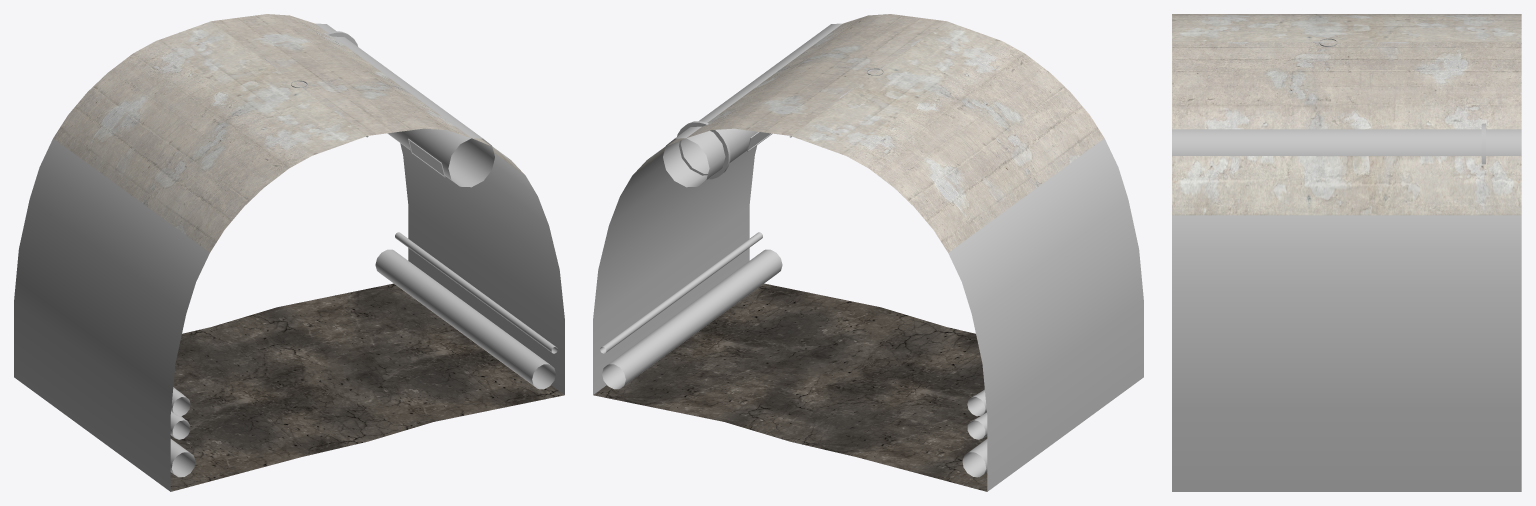
File: Corridor_wall_1x.FBX
The picture shows the model from 3 angles, left to right: view 1: azimuth 30°, elevation 25°; view 2: azimuth 150°, elevation 25°; view 3: azimuth 270°, elevation 25°; orthographic projection. The views are drawn at different scales.
Parts seen in each view (by area): view 1: Corridor_wall_1x, Corridor_floor_1x, Tube003, Tube_big_vent002, Tube_paint003, Tube_warm003, Tube006; view 2: Corridor_wall_1x, Corridor_floor_1x, Tube003, Tube_big_vent002, Tube_paint003, Tube_warm003, Tube006; view 3: Corridor_wall_1x, Tube_big_vent002.
Boxes of the visible parts, x1,y1,x2,y2 form: Corridor_wall_1x: [14, 14, 564, 491]; Corridor_floor_1x: [170, 283, 564, 491]; Tube003: [375, 249, 555, 389]; Tube_big_vent002: [315, 23, 494, 187]; Tube_paint003: [395, 232, 557, 353]; Tube_warm003: [170, 387, 190, 439]; Tube006: [170, 439, 195, 477]; Corridor_wall_1x: [593, 14, 1143, 491]; Corridor_floor_1x: [593, 283, 987, 491]; Tube003: [602, 249, 782, 389]; Tube_big_vent002: [663, 23, 842, 187]; Tube_paint003: [600, 232, 762, 353]; Tube_warm003: [967, 389, 987, 439]; Tube006: [962, 439, 987, 477]; Corridor_wall_1x: [1172, 14, 1521, 491]; Tube_big_vent002: [1172, 123, 1521, 164].
Size of the model in its own units: 500 by 374 by 345.
